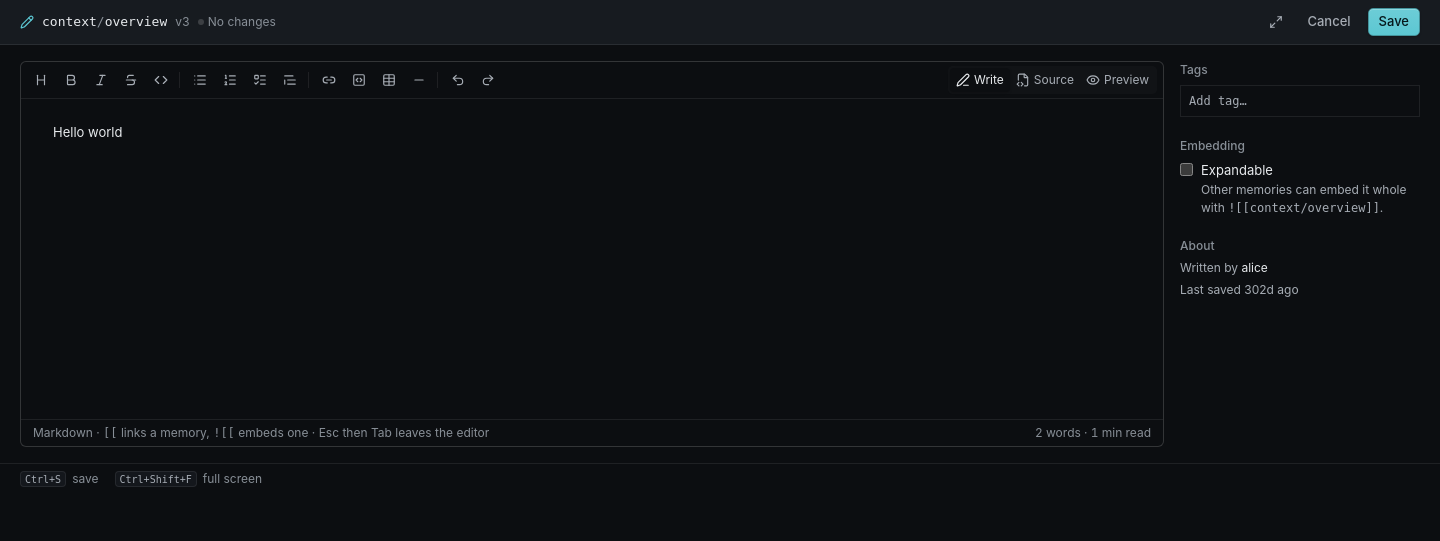
Test: MemoryEditor › shows a generic error message on other failures
This screenshot has width=1440, height=541.
Step 1. Click the button "Save" → (1394, 22), box left=1368, top=8, right=1420, bottom=36
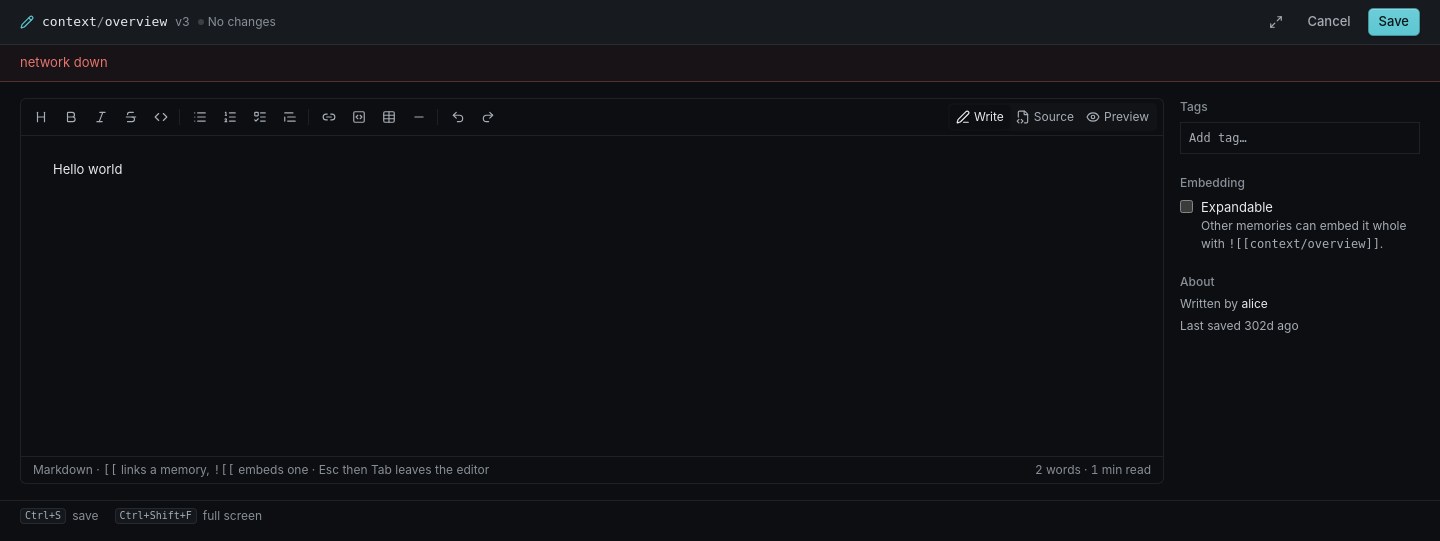
Result: the text "network down" is shown at left=20, top=54, right=108, bottom=70
